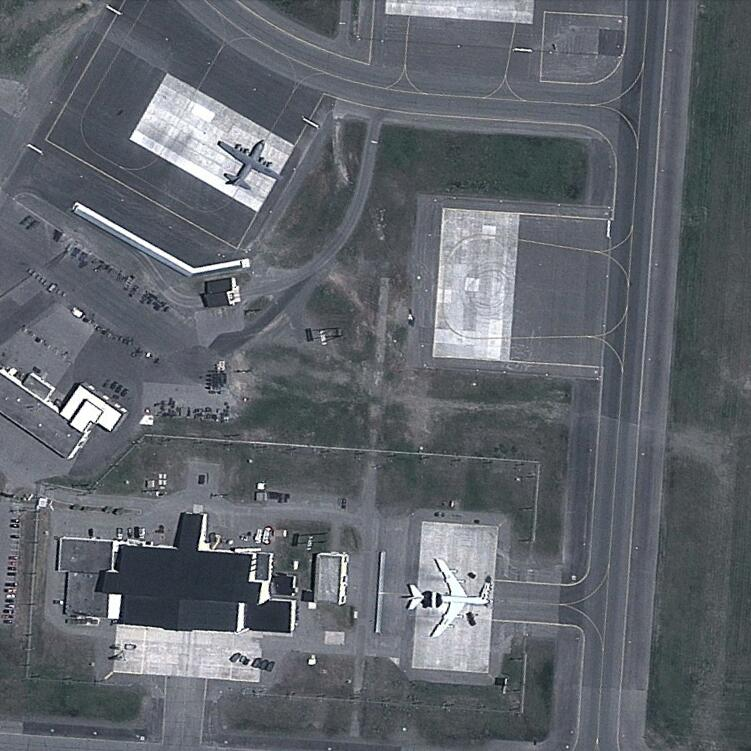A2: (213, 139, 283, 193)
A7: (406, 555, 489, 639)
